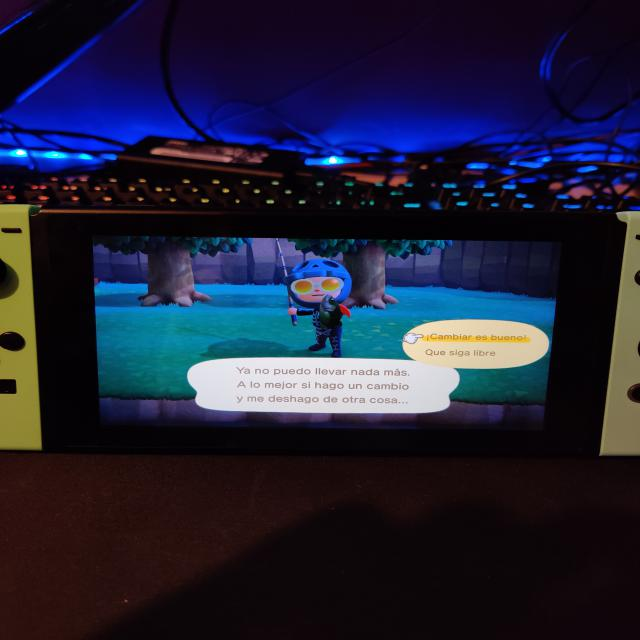text_bubble: (184, 356, 464, 417), (400, 318, 552, 372)
